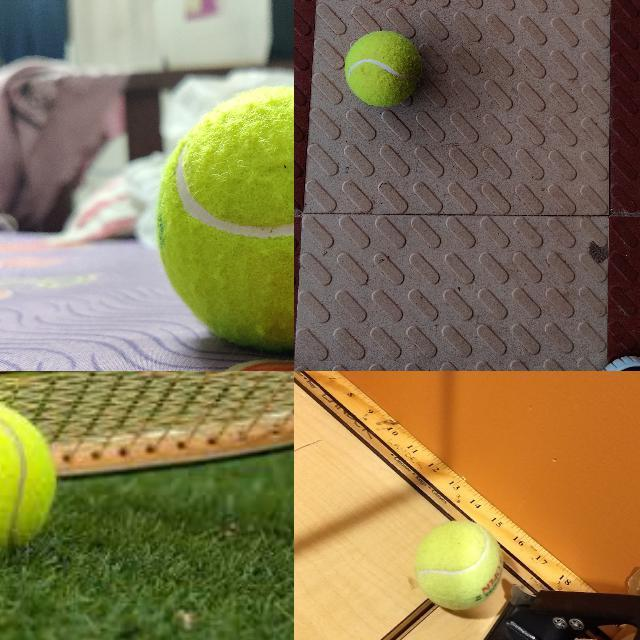tennis-ball: (155, 85, 293, 350), (0, 397, 58, 548), (412, 519, 503, 611), (344, 30, 422, 106)
